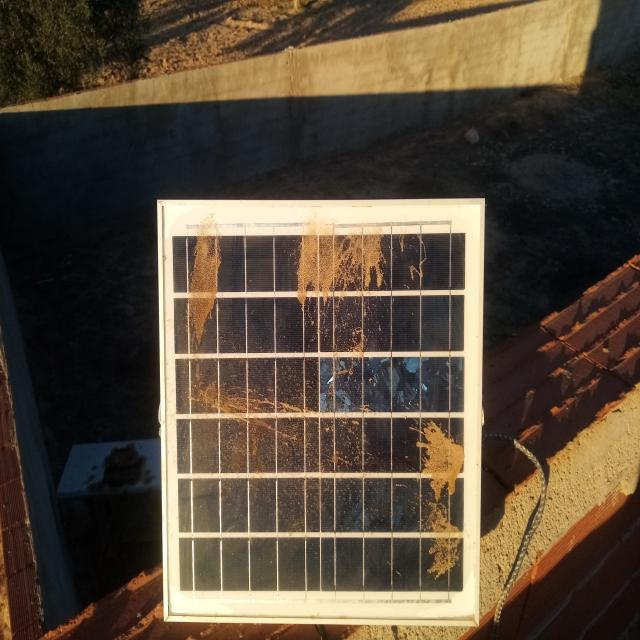faulty: (158, 203, 483, 624)
